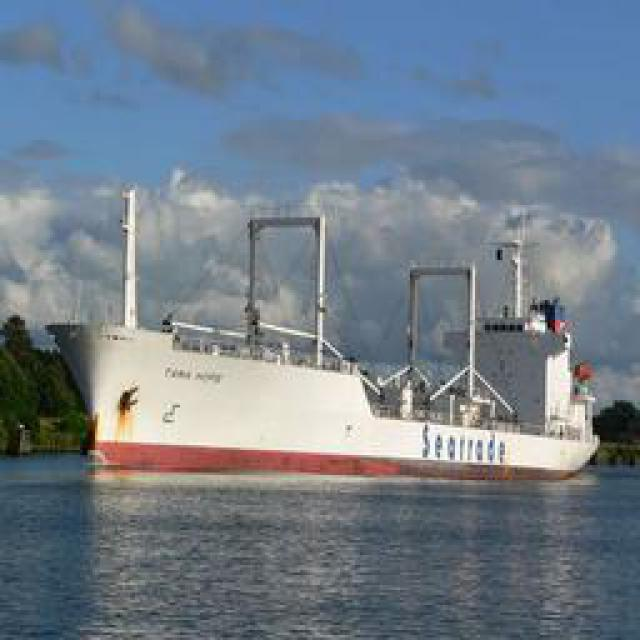Ship: (71, 203, 601, 491)
